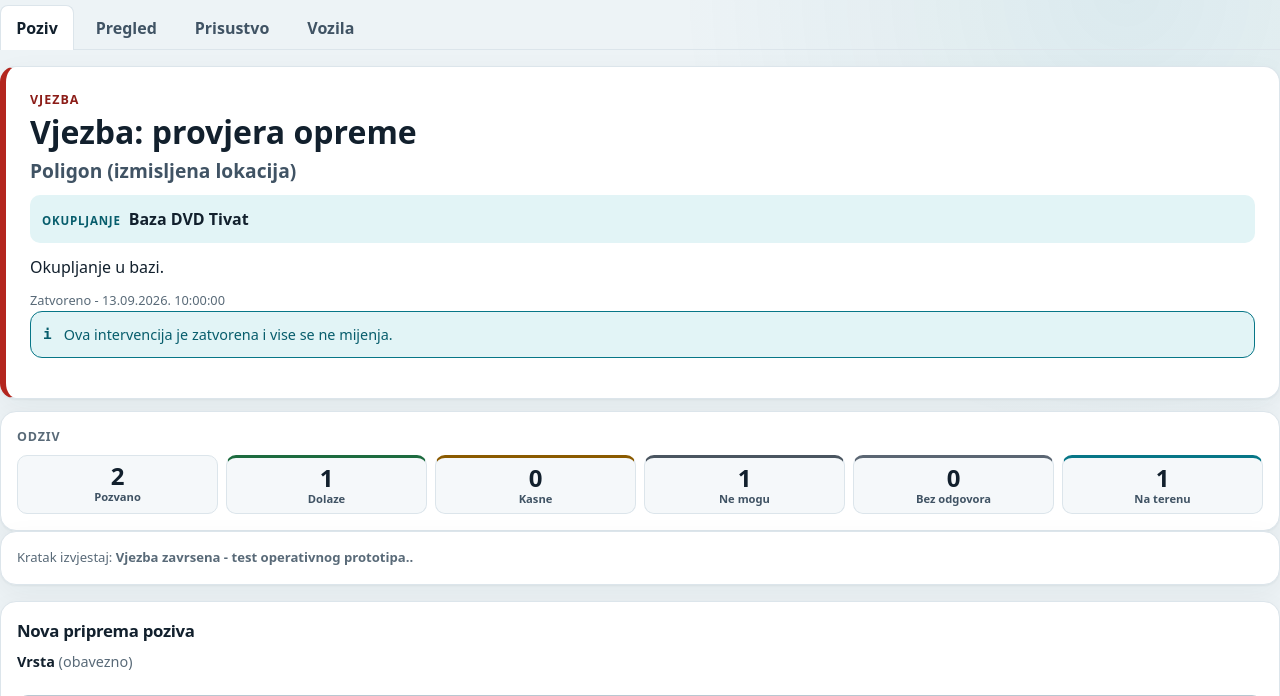
every recorded time and duration reaches the screen › the commander console › picks every first event by time, never by list position
Click the tab "Pregled": (126, 27) [80,5,173,49]
(page scrolled)
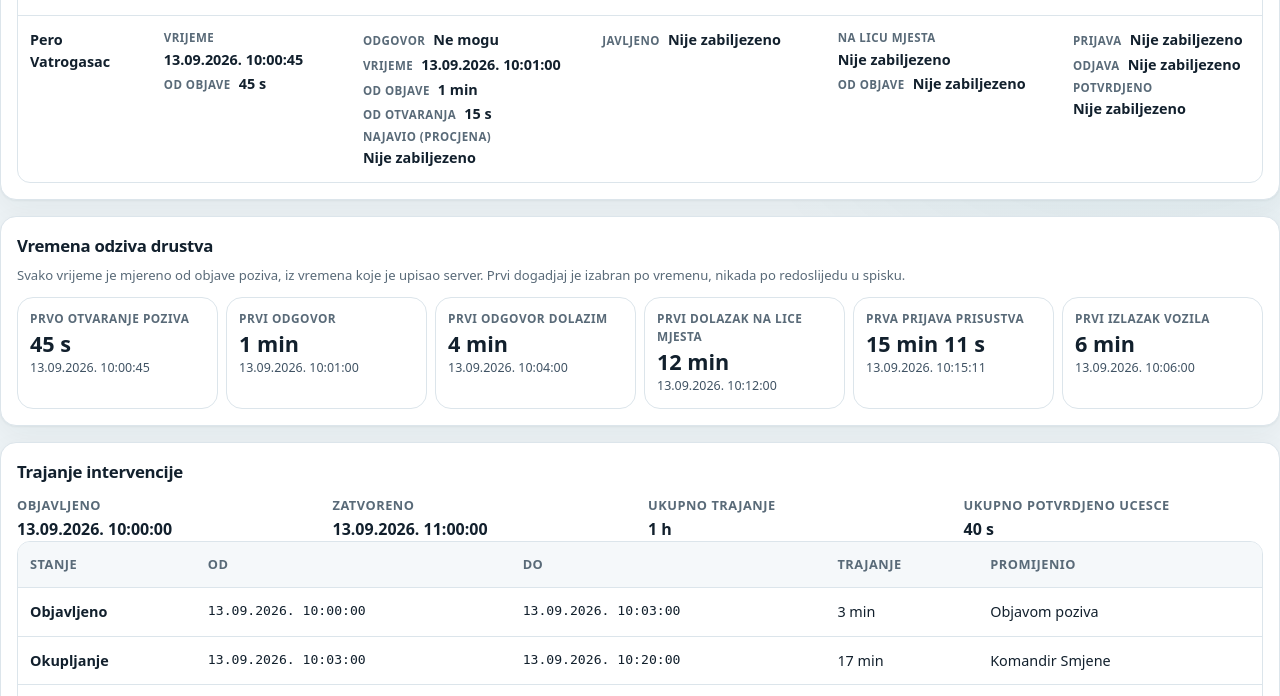
Result: the element with test id "first-vehicle" shows "6 min" at [1075,329,1135,358]
